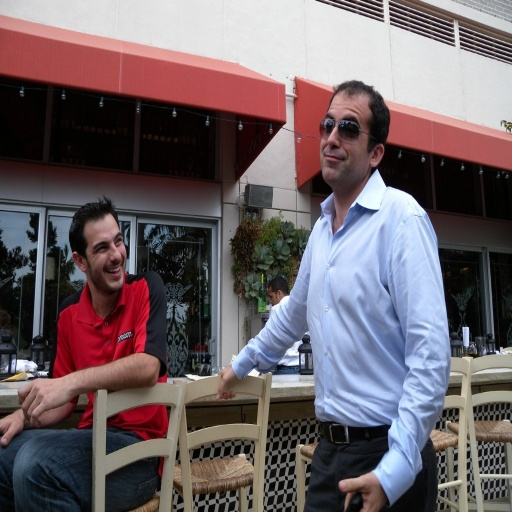hand: (8, 368, 66, 432), (337, 468, 390, 511), (0, 412, 23, 448), (216, 364, 237, 402)
